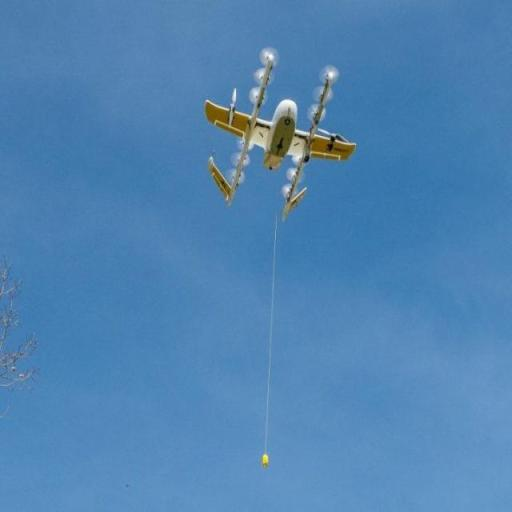uav: (206, 49, 362, 234)
